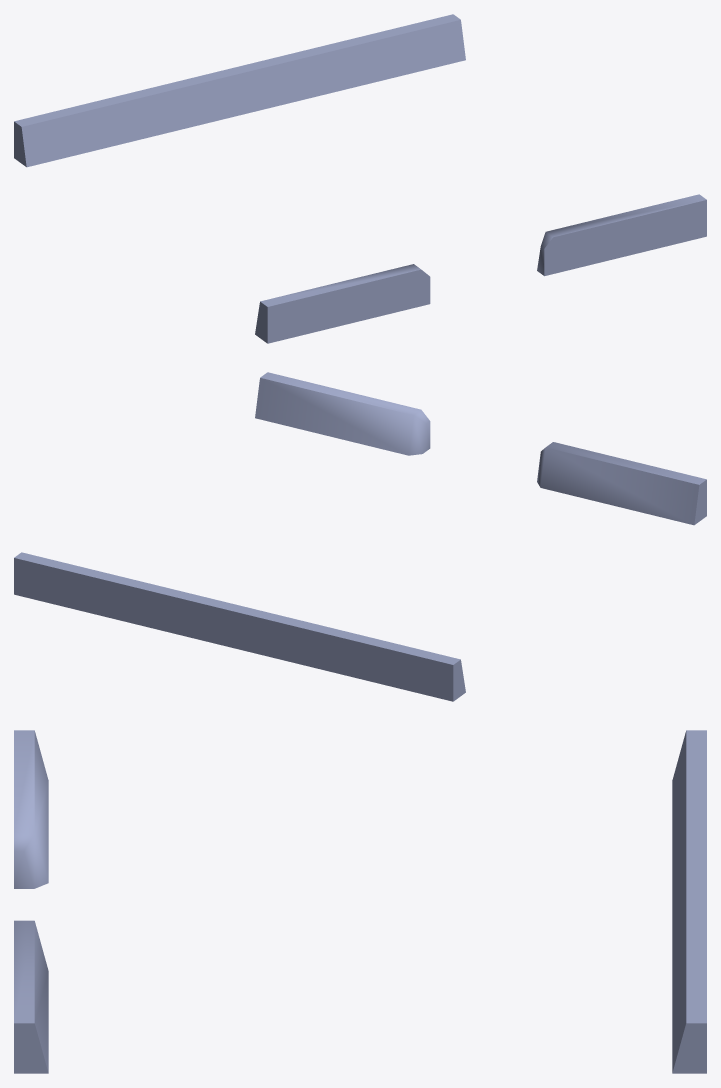
The model's file is road-driveway-single-barrier.glb.
3 renders of one model, top to bottom at view 1: azimuth 30°, elevation 25°; view 2: azimuth 150°, elevation 25°; view 3: azimuth 270°, elevation 25°, orthographic. The views are drawn at different scales.
Parts seen in each view (by area): view 1: road-driveway-single-barrier; view 2: road-driveway-single-barrier; view 3: road-driveway-single-barrier.
Part boxes in pixels (x1,y1,x2,y2): road-driveway-single-barrier: [14, 14, 706, 343]; road-driveway-single-barrier: [14, 372, 706, 701]; road-driveway-single-barrier: [14, 730, 706, 1073].
Size of the model in its own units: 10 by 0.7996 by 10.
1 material, 1 textured.
